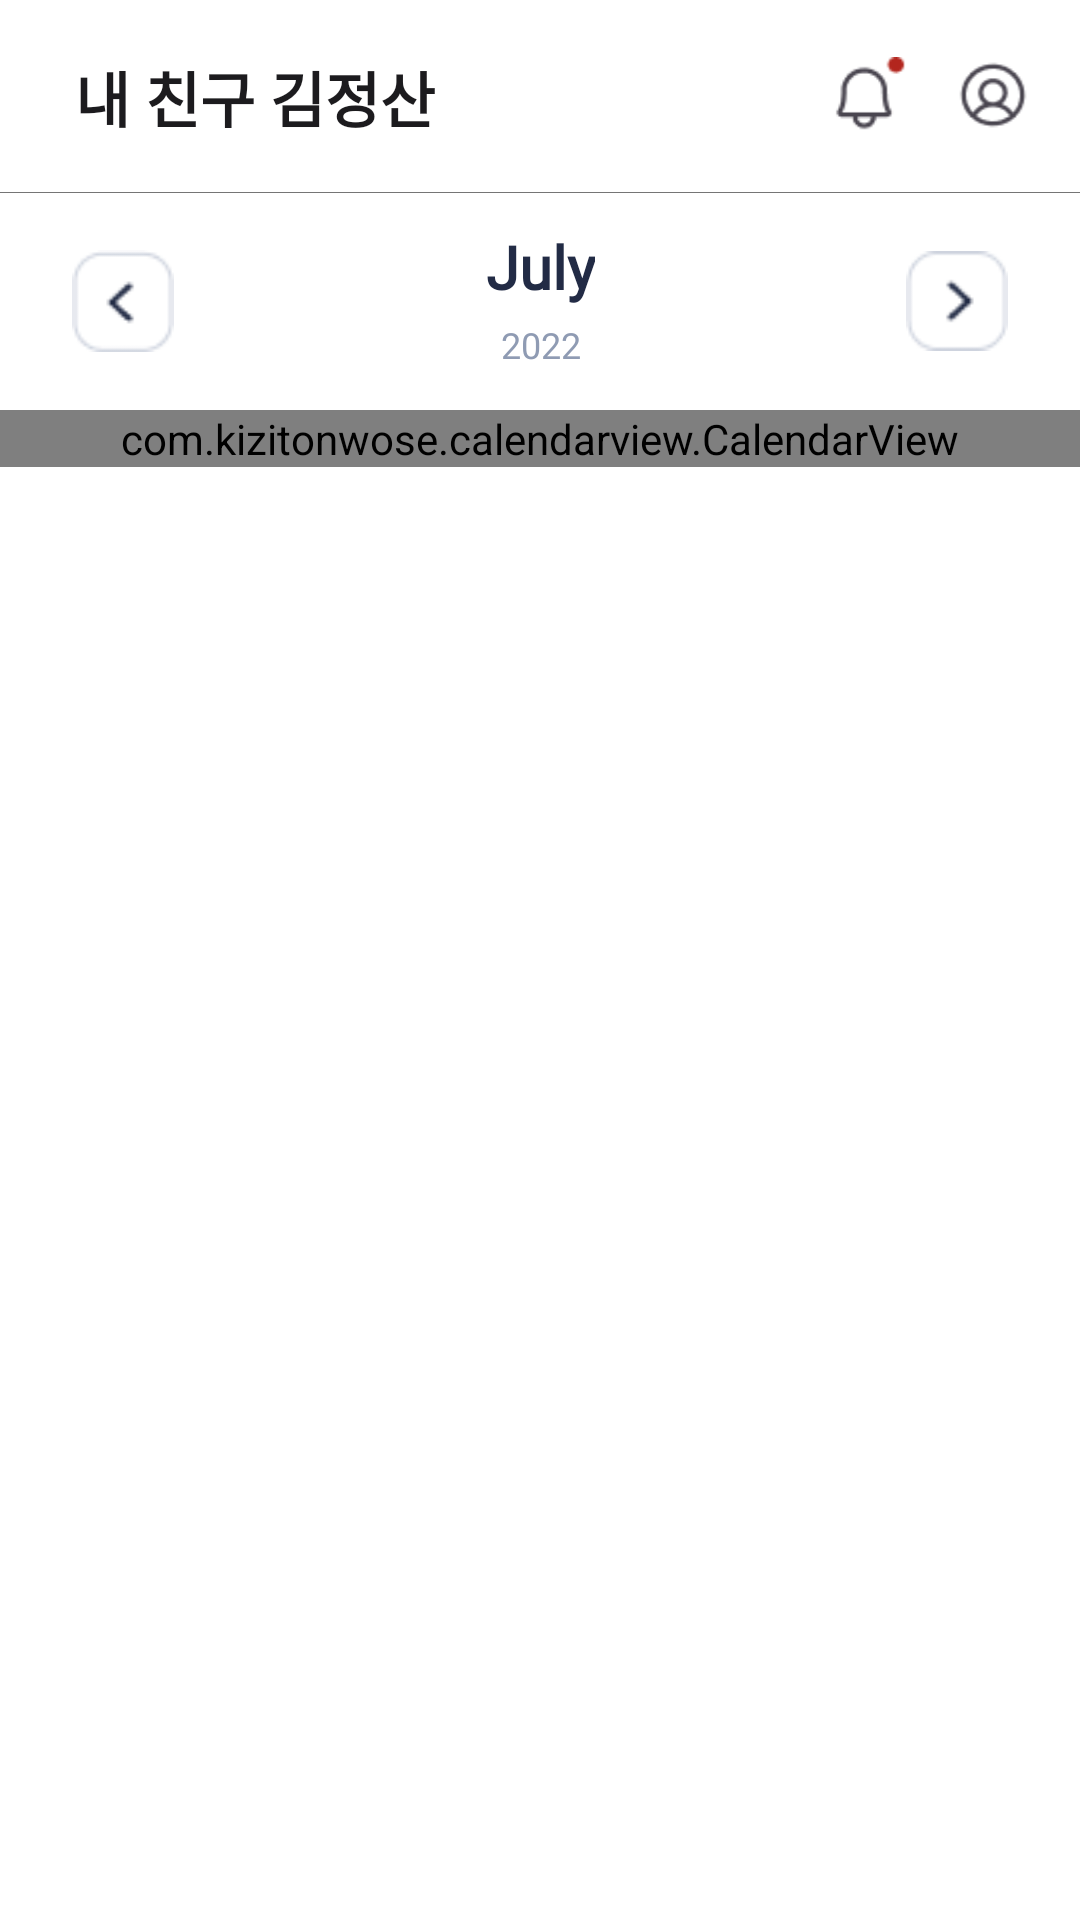

Icons on this 1080x1920 Android screen, each with the point to tap as point (x, y):
arrow left: point (123, 302)
arrow right: point (957, 301)
bell: point (870, 93)
